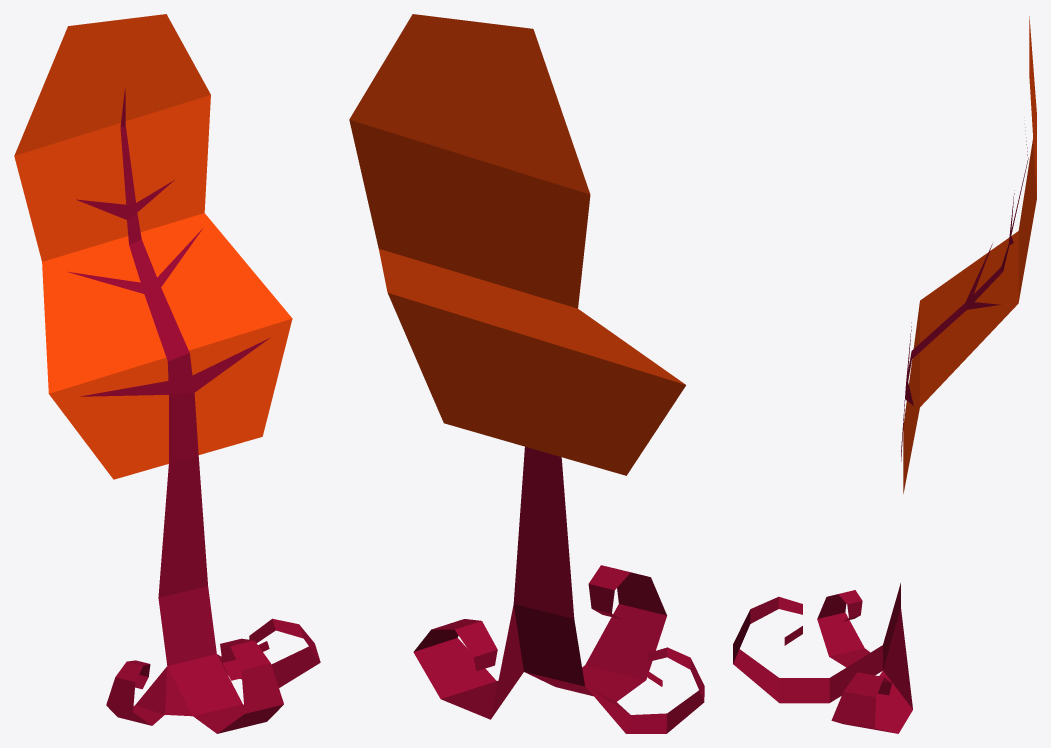
File: tree_B_v1.FBX
The picture shows the model from 3 angles, left to right: view 1: azimuth 30°, elevation 25°; view 2: azimuth 150°, elevation 25°; view 3: azimuth 270°, elevation 25°; orthographic projection. The views are drawn at different scales.
Parts seen in each view (by area): view 1: tree_B_v1_top, tree_B_v1_base; view 2: tree_B_v1_top, tree_B_v1_base; view 3: tree_B_v1_base, tree_B_v1_top.
Part boxes in pixels (bbox=[...]): tree_B_v1_top: bbox=[14, 14, 292, 479]; tree_B_v1_base: bbox=[67, 87, 320, 733]; tree_B_v1_top: bbox=[349, 14, 685, 475]; tree_B_v1_base: bbox=[413, 446, 704, 733]; tree_B_v1_base: bbox=[733, 127, 1028, 733]; tree_B_v1_top: bbox=[903, 16, 1036, 493].
Size of the model in its own units: 4066 by 9962 by 4222.
